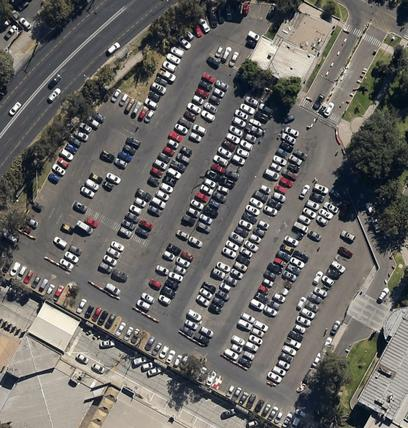parkingspot: (147, 100, 278, 323), (133, 94, 262, 315), (178, 126, 302, 340), (191, 148, 310, 347), (221, 182, 332, 363), (235, 199, 342, 371), (118, 72, 218, 239), (95, 338, 271, 428), (133, 79, 230, 241), (143, 2, 272, 111), (265, 245, 354, 385), (17, 110, 107, 236), (72, 128, 128, 214), (216, 376, 303, 428), (90, 136, 142, 216), (0, 256, 67, 303), (103, 238, 148, 299), (90, 232, 132, 290), (150, 392, 217, 428), (44, 207, 86, 264), (58, 215, 100, 271), (66, 292, 120, 331), (142, 334, 194, 372), (107, 89, 157, 125), (214, 44, 249, 71), (114, 318, 144, 346), (196, 364, 220, 388)
